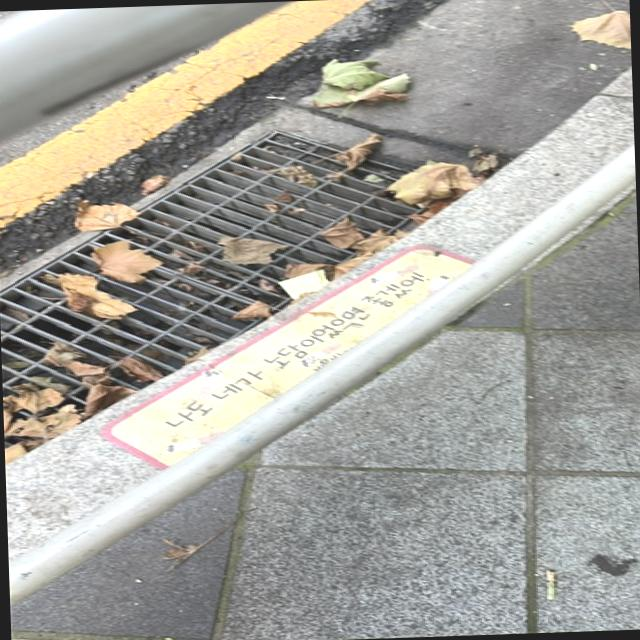drain_area: (92, 146, 421, 310), (0, 242, 264, 418)
drain_full: (90, 131, 459, 311), (0, 241, 277, 466)
